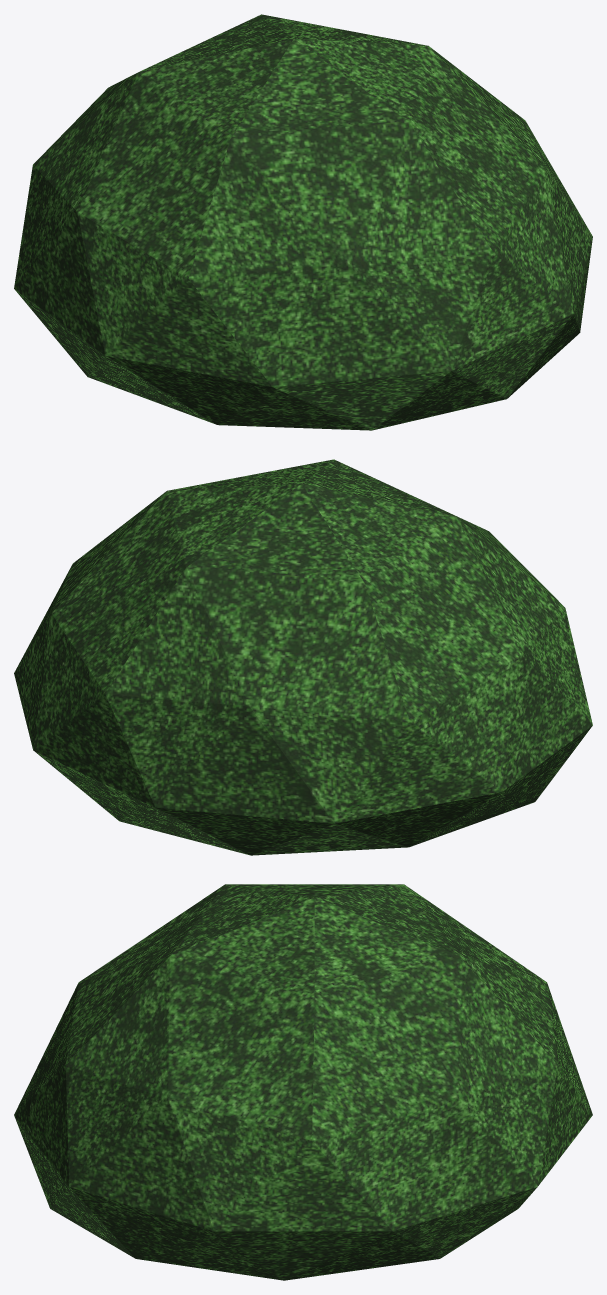
The model's file is smallbushA.fbx.
3 views of the same model, one above another, from view 1: azimuth 30°, elevation 25°; view 2: azimuth 150°, elevation 25°; view 3: azimuth 270°, elevation 25° (orthographic). The views are drawn at different scales.
Visible parts, largest first — view 1: bush.001; view 2: bush.001; view 3: bush.001.
Boxes of the visible parts, <box> form: bush.001: <box>14,14,592,430</box>; bush.001: <box>14,459,592,855</box>; bush.001: <box>14,884,592,1280</box>.
Size of the model in its own units: 74.89 by 42.31 by 78.74.
Materials: 1 (1 with a texture image).
